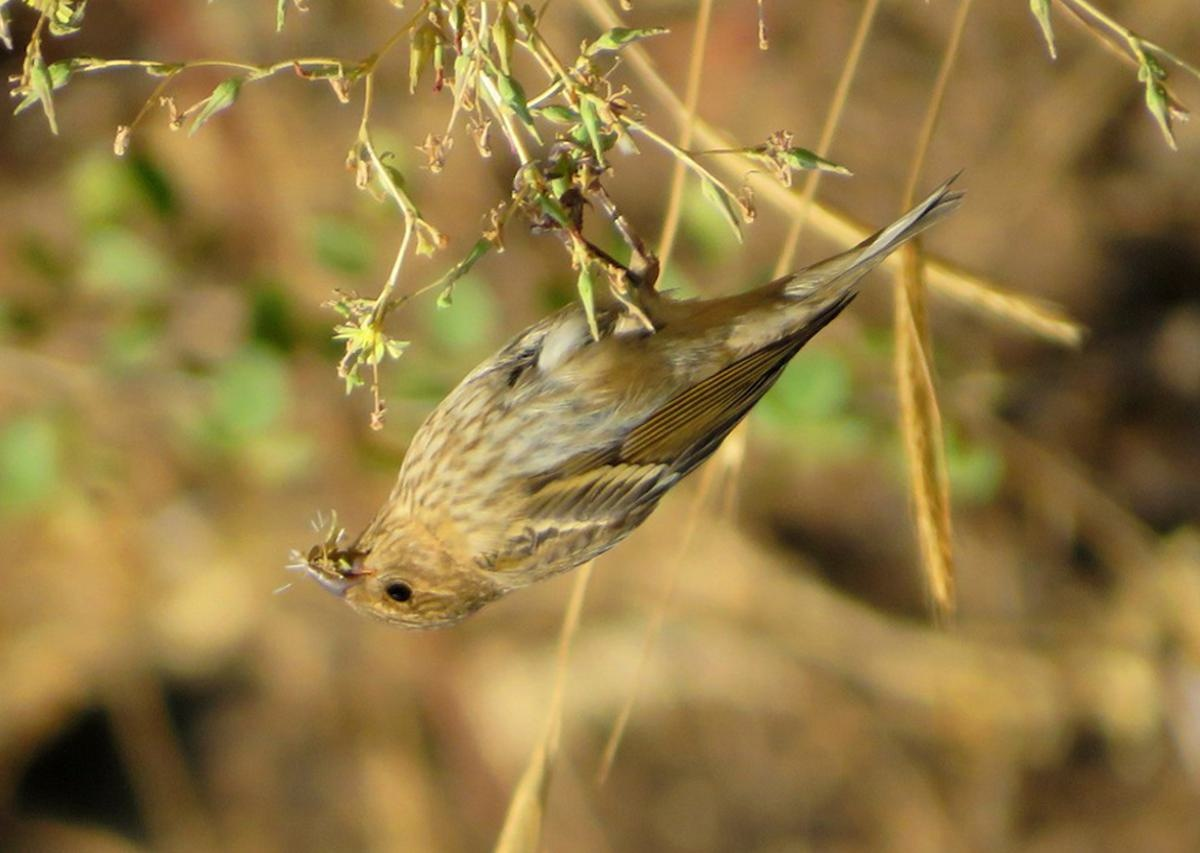rosefinch: (289, 161, 984, 657)
